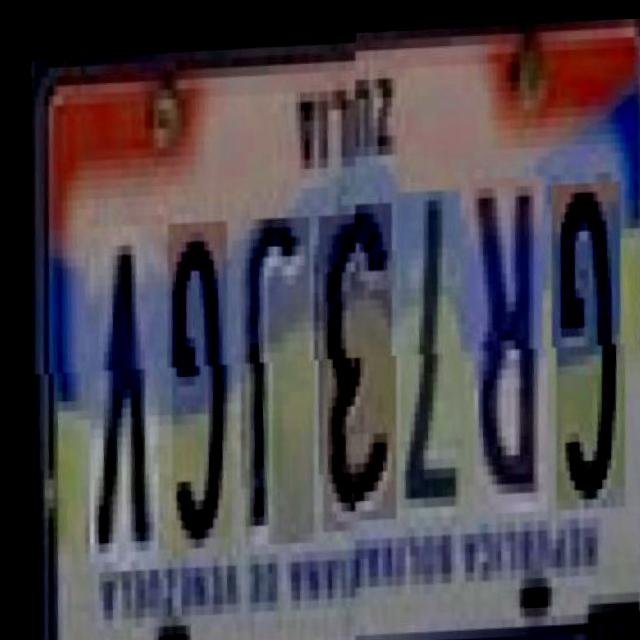3: (295, 192, 398, 516)
7: (373, 181, 467, 514)
g: (529, 175, 627, 508), (143, 200, 235, 542)
j: (216, 197, 316, 530)
r: (445, 168, 550, 511)
v: (61, 204, 161, 556)
